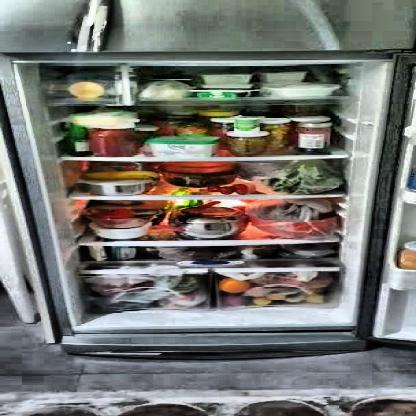banana: (88, 171, 161, 181)
cheese: (149, 136, 219, 156), (76, 112, 136, 125)
cream_cheese: (190, 88, 255, 99)
lemon: (219, 278, 252, 292)
lettuce: (267, 161, 344, 194)
tomato: (208, 184, 249, 194)
tomato_paste: (92, 126, 142, 156)
yoghurt: (231, 114, 264, 134)
